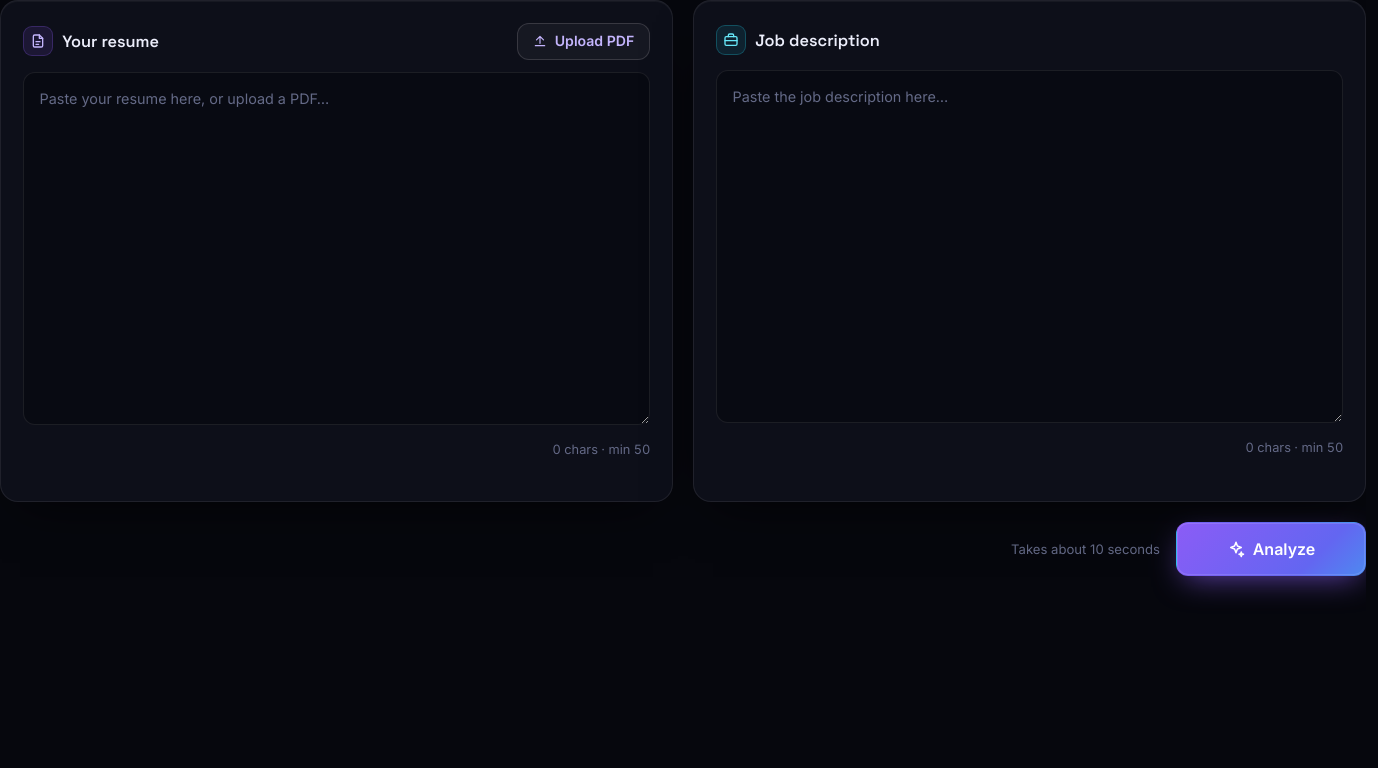
Test: AnalyzeForm validation › shows required errors and focuses the first invalid field when empty
This screenshot has width=1378, height=768.
Click the button "Analyze" at (1271,549), box x1=1176 y1=522 x2=1366 y2=576
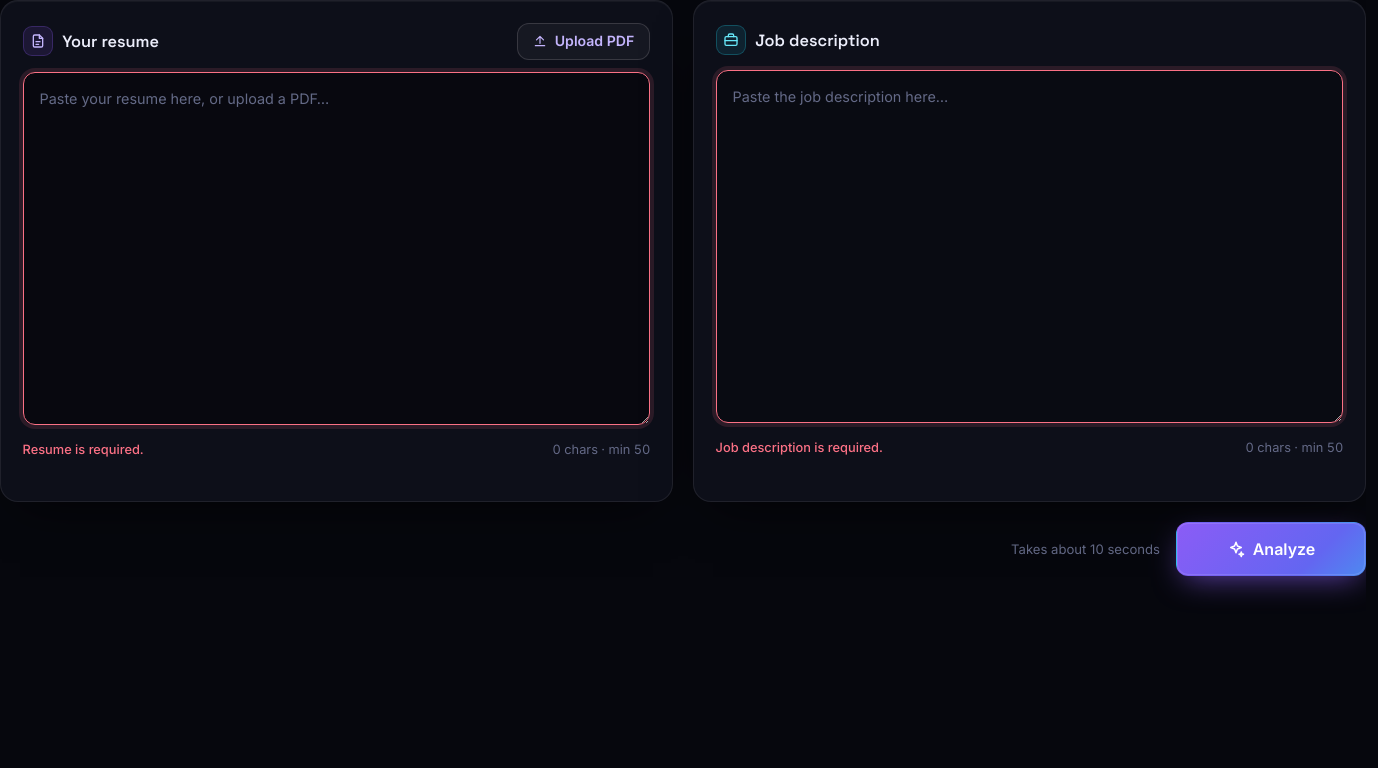
Result: the text "Resume is required." is shown at x1=23 y1=440 x2=144 y2=460
Result: the text "Job description is required." is shown at x1=716 y1=438 x2=883 y2=458
